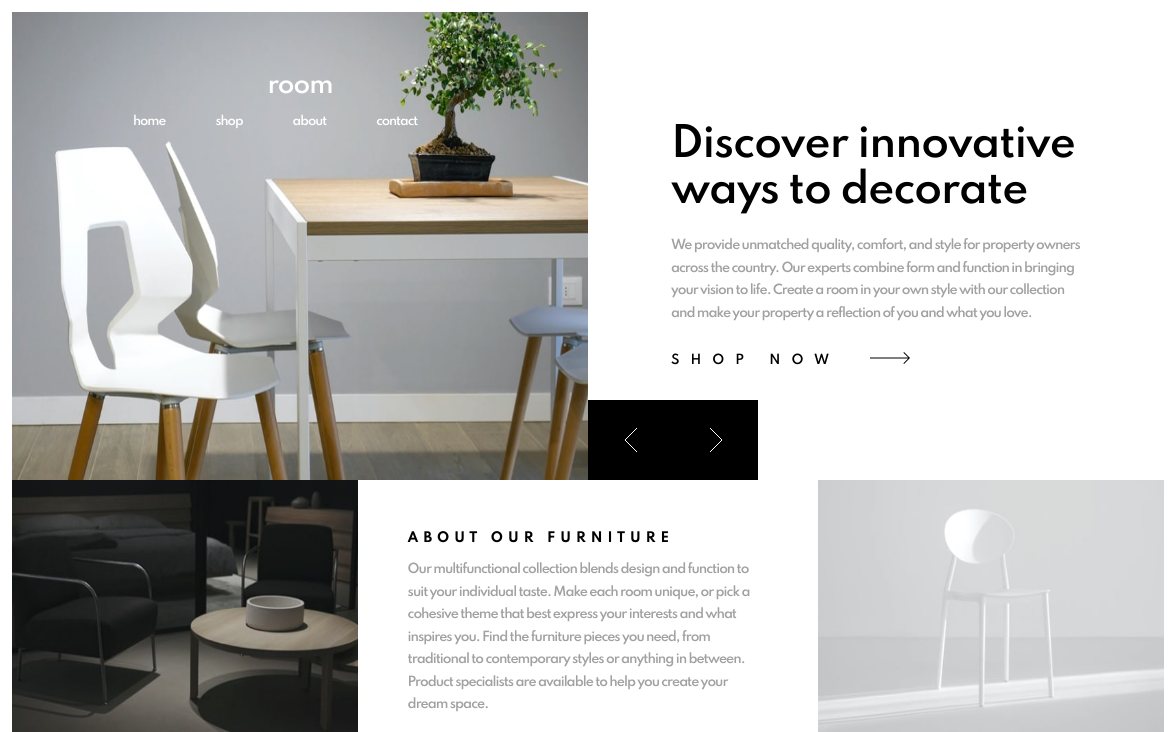
Scenario: test App change slide for text and image › test text change when click on left arrow div when arrived to first item
Expected: the heading with test id "article-title" reads "Discover innovative ways to decorate", [671,123,1075,213]
Expected: the text with test id "article-text" shows "We provide unmatched quality, comfort, and style for property owners across the country. Our experts combine form and function in bringing your vision to life.", [671,238,1080,320]
Click the button with test id "left-arrow".
click(630, 440)  # box [588,400,673,480]
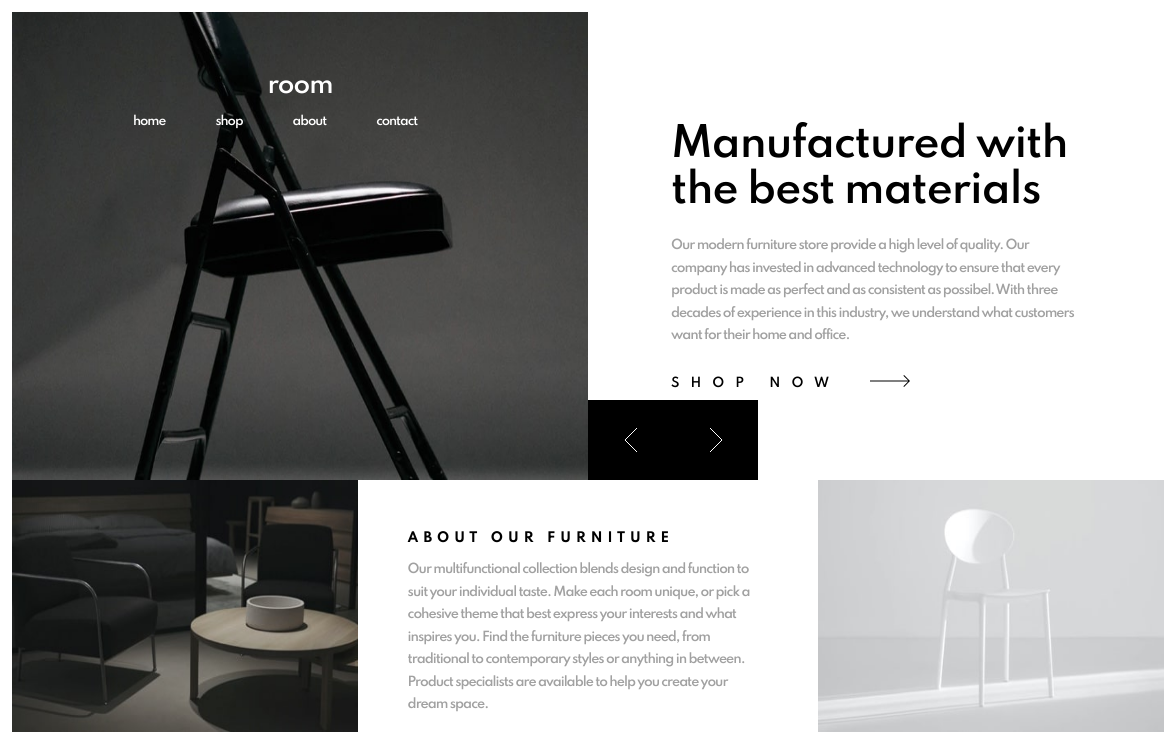
Result: the heading with test id "article-title" reads "Manufactured with the best materials" at [671,123,1068,213]
Result: the text with test id "article-text" shows "Our modern furniture store provide a high level of quality. Our company has invested in advanced technology to ensure that every product is made as perfect and" at [671,238,1074,342]
